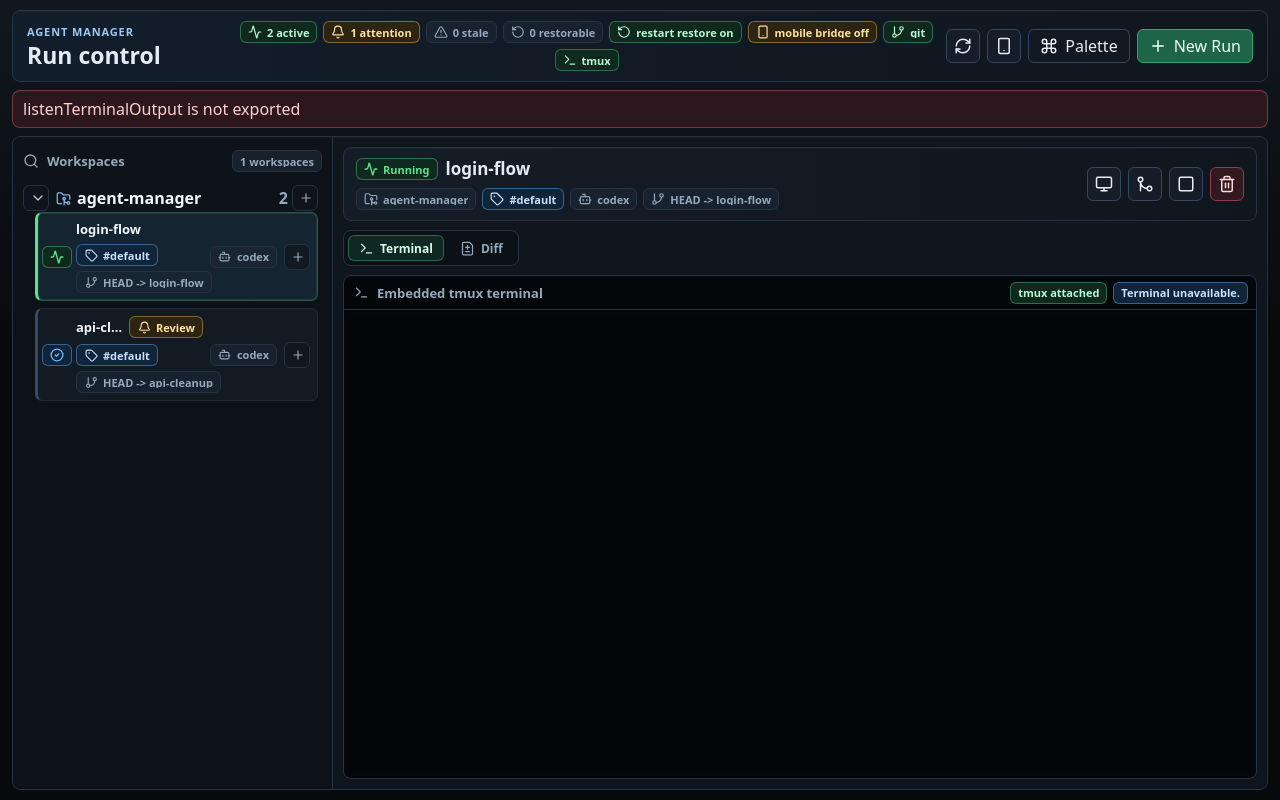
App › does not let an older dashboard refresh temporarily restore the previous run
This screenshot has width=1280, height=800.
Expected: the heading "login-flow" is shown, [446,158,530,180]
Click the button named "Refresh".
click(963, 46)  # box [946,29,980,63]
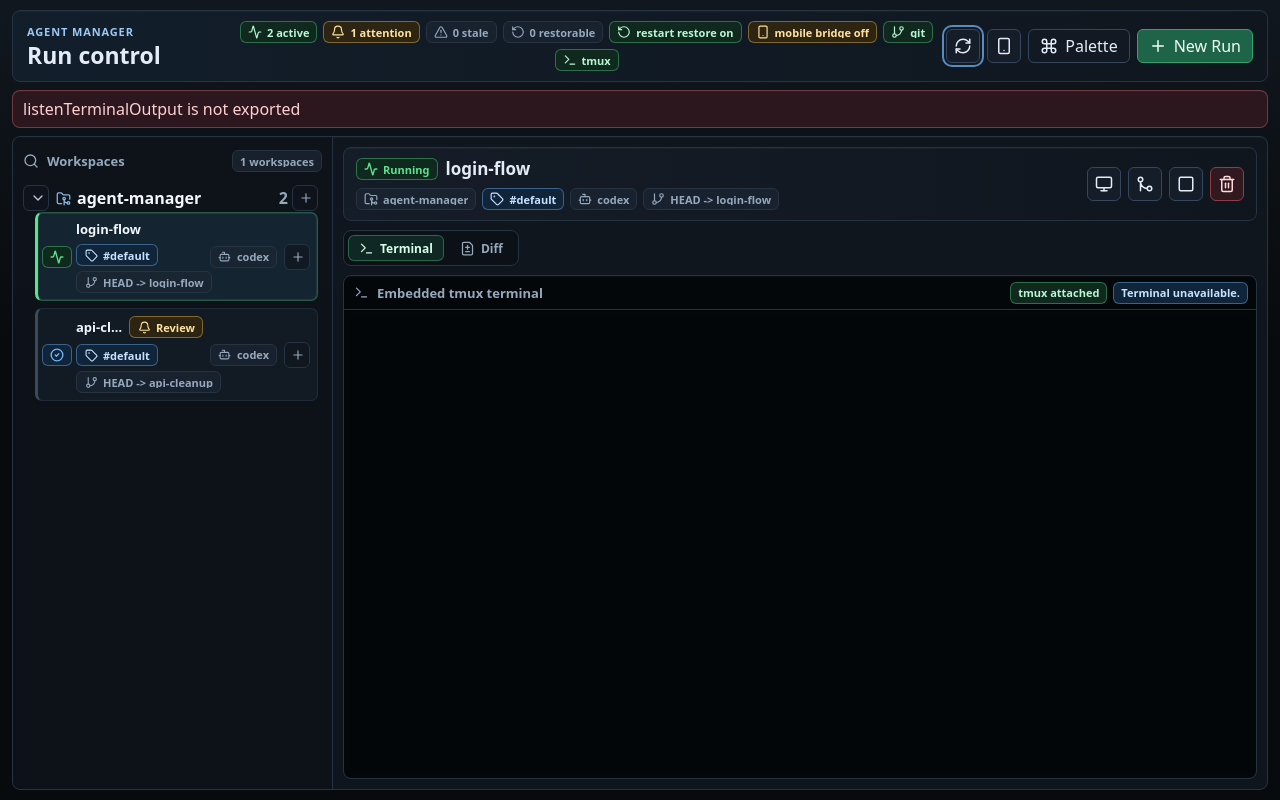
Click the list item "api-cleanup Review #default HEAD -> api-cleanup codex".
click(176, 354)  # box [35,308,318,401]
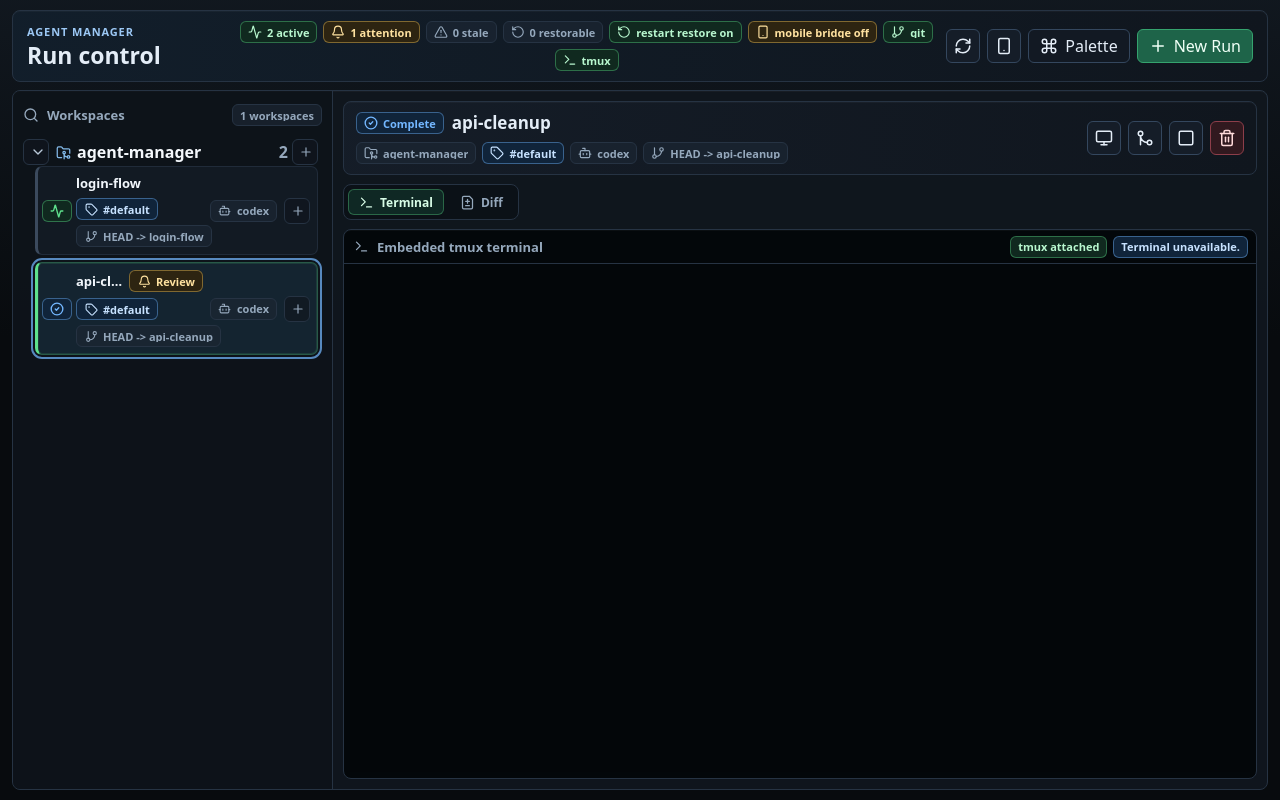
Now the heading "api-cleanup" is shown, box [452,112,551,134]
